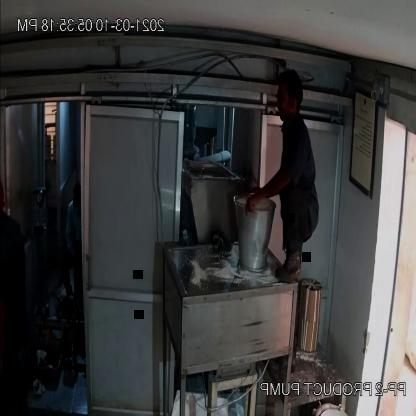no_glove: (239, 158, 292, 227)
